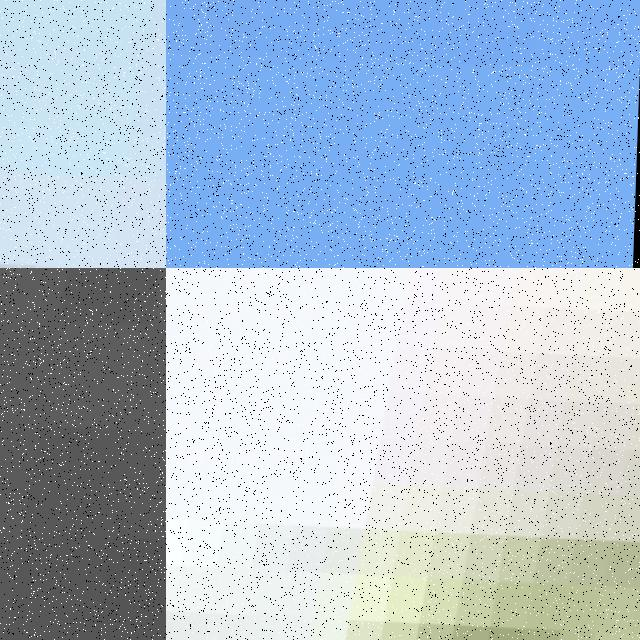drone: (166, 268, 640, 640), (0, 268, 166, 640), (0, 0, 166, 268)
